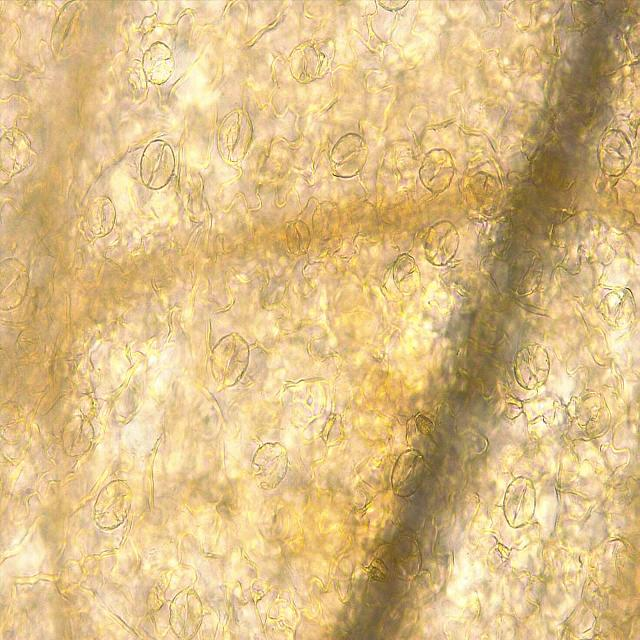Stomata: (208, 330, 252, 390), (49, 0, 88, 61), (92, 478, 135, 533), (217, 108, 256, 166), (502, 474, 538, 530), (329, 130, 369, 180), (512, 341, 551, 392), (139, 138, 176, 191), (250, 440, 289, 490), (0, 254, 33, 313), (168, 586, 204, 640), (389, 448, 426, 500), (423, 218, 460, 270), (596, 128, 634, 178), (506, 249, 545, 296), (418, 147, 456, 194), (575, 392, 612, 439), (0, 126, 33, 176), (60, 413, 96, 458), (391, 533, 424, 582), (141, 40, 176, 86), (600, 286, 634, 331), (264, 597, 298, 640), (466, 170, 500, 213), (86, 194, 117, 238), (0, 400, 28, 446), (293, 380, 326, 419), (311, 200, 341, 242), (285, 220, 312, 257), (570, 0, 607, 27)
